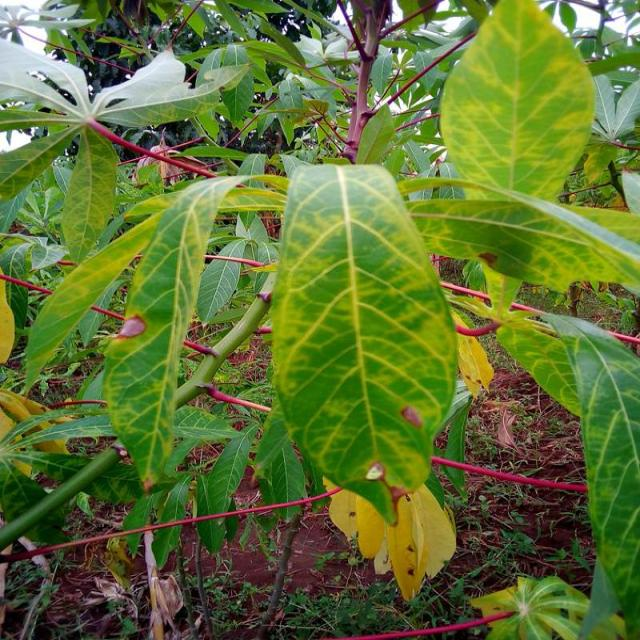cassava leaf: (270, 160, 460, 525), (102, 172, 247, 490), (439, 0, 597, 204)
